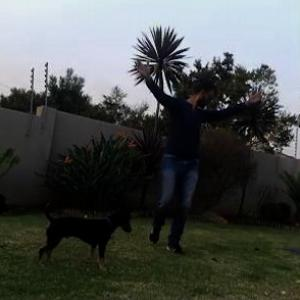takeoff: (122, 54, 274, 245)
